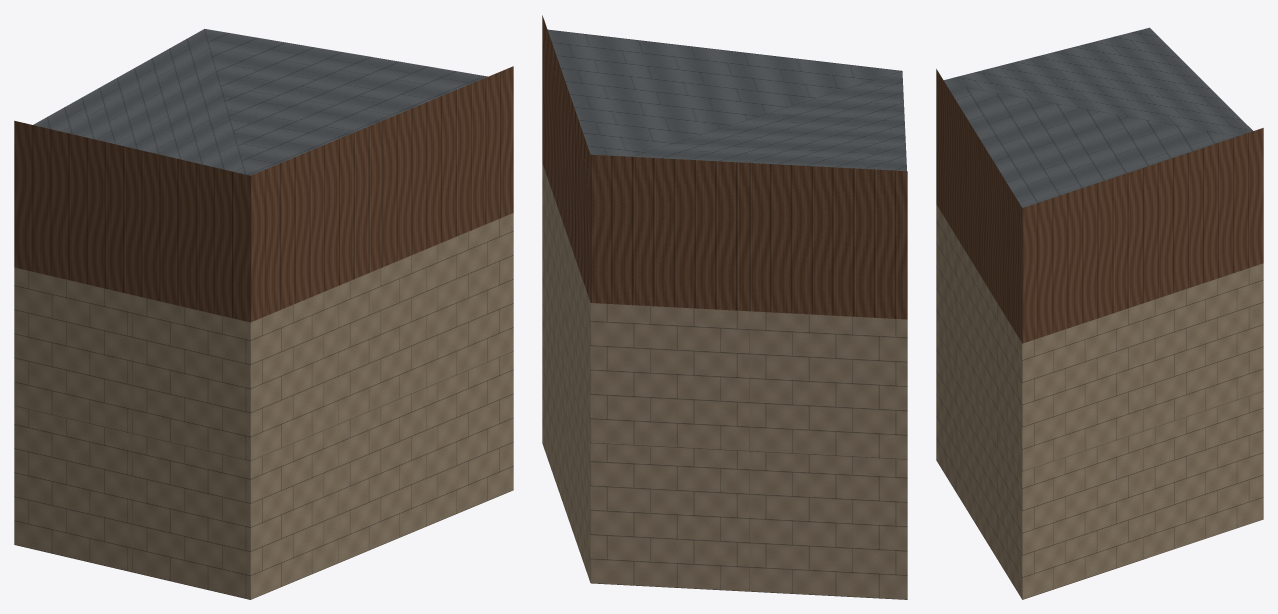
Rendered from bld_c38_-11_540.gltf.
3 views of the same model, side by side, from view 1: azimuth 30°, elevation 25°; view 2: azimuth 150°, elevation 25°; view 3: azimuth 270°, elevation 25° (orthographic). The views are drawn at different scales.
Parts seen in each view (by area): view 1: bld_c38_-11_540; view 2: bld_c38_-11_540; view 3: bld_c38_-11_540.
Part boxes in pixels (bbox=[...]): bld_c38_-11_540: bbox=[14, 29, 513, 599]; bld_c38_-11_540: bbox=[542, 15, 907, 599]; bld_c38_-11_540: bbox=[936, 27, 1263, 599].
Bounding box in the file's own units: 7.31 × 6.88 × 5.21.
4 materials, 4 textured.
